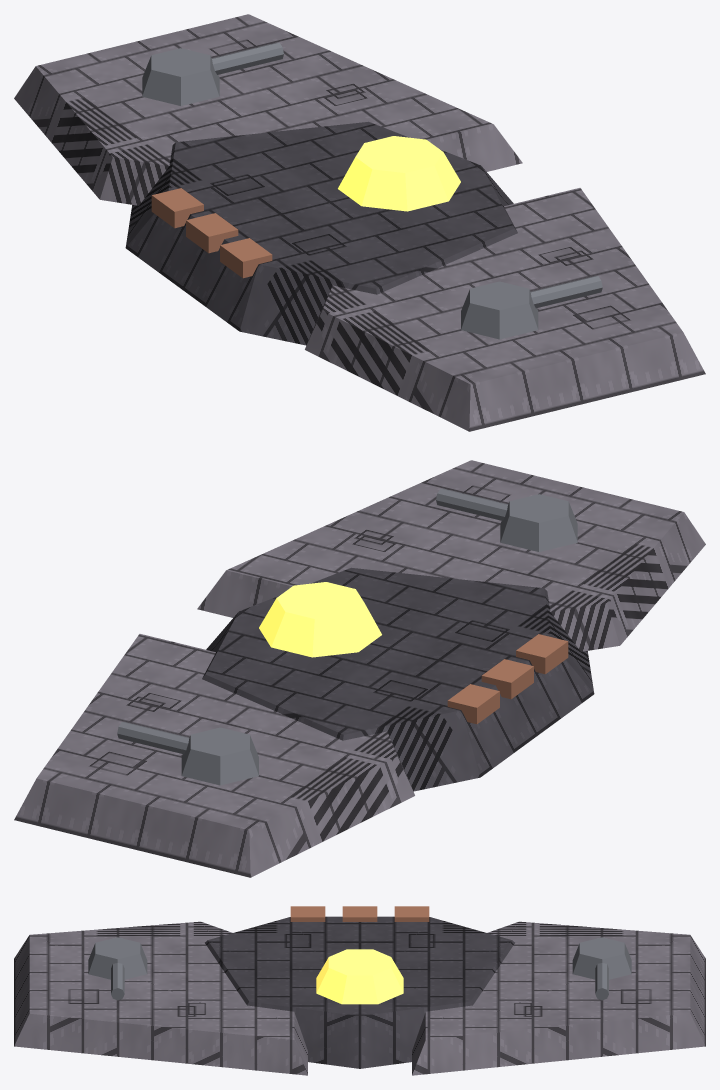
File: furnace_ember.glb
3 views of the same model, one above another, from view 1: azimuth 30°, elevation 25°; view 2: azimuth 150°, elevation 25°; view 3: azimuth 270°, elevation 25° (orthographic). The views are drawn at different scales.
Size of the model in its own units: 38 by 8 by 80.
7 materials, 3 textured.
